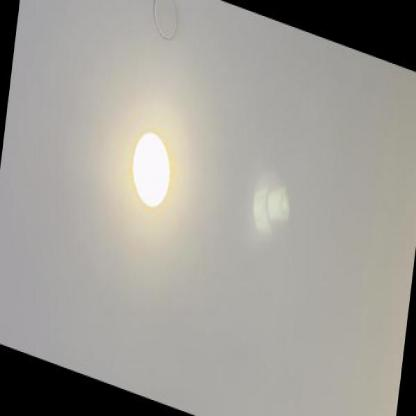light_on: (118, 100, 185, 235)
